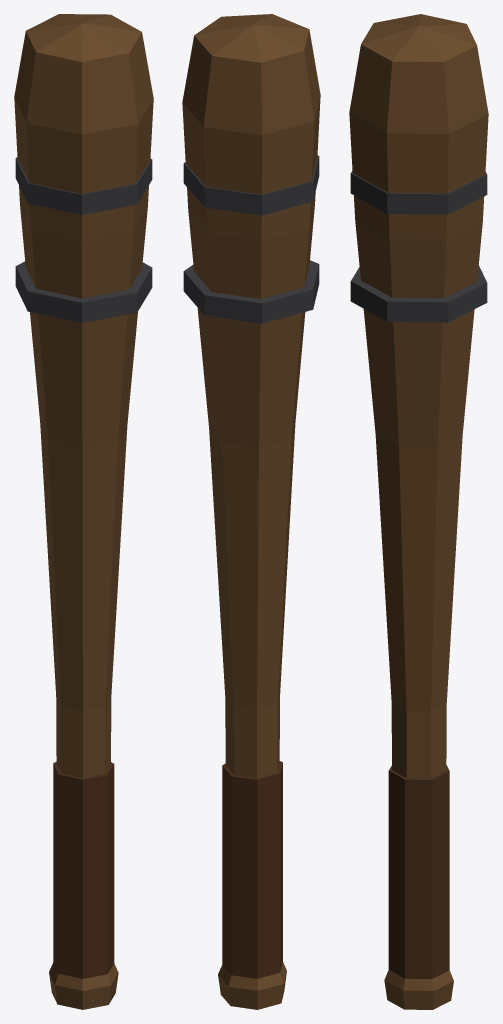
File: club.glb
3 renders of one model, left to right at view 1: azimuth 90°, elevation 25°; view 2: azimuth 150°, elevation 25°; view 3: azimuth 270°, elevation 25°, orthographic.
Parts seen in each view (by area): view 1: club; view 2: club; view 3: club.
Boxes of the visible parts, x1,y1,x2,y2 form: club: [14, 14, 153, 1009]; club: [182, 14, 320, 1009]; club: [349, 14, 488, 1009].
Size of the model in its own units: 0.0917 by 0.72 by 0.0936.
